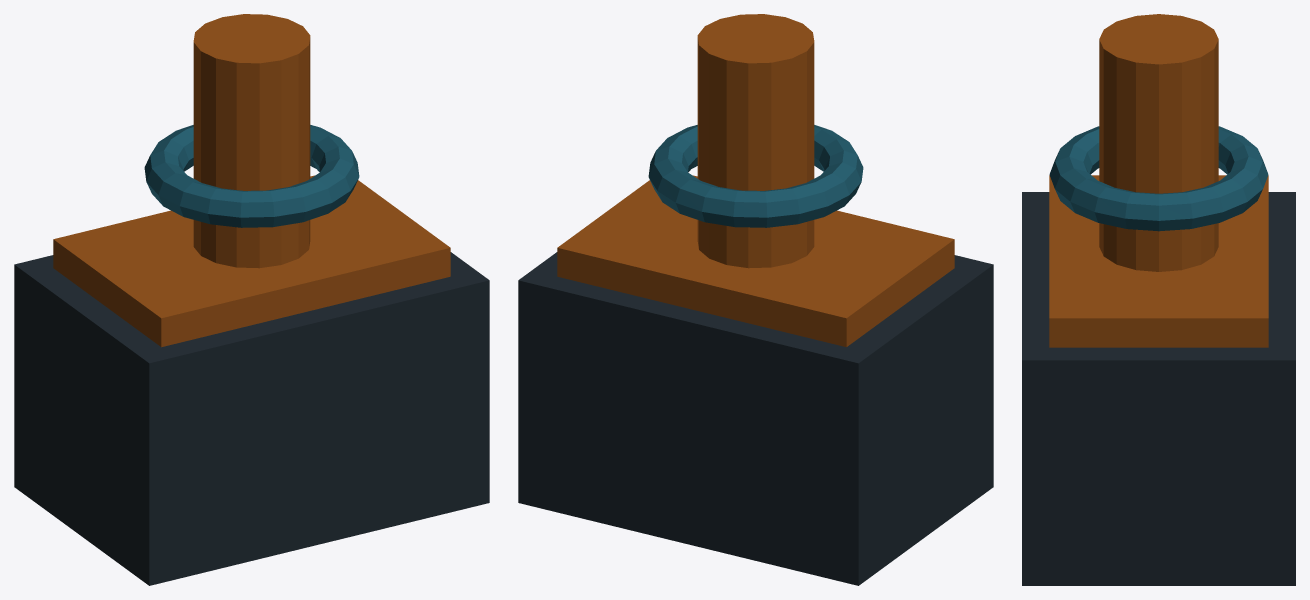
The model's file is workbench.obj.
3 renders of one model, left to right at view 1: azimuth 30°, elevation 25°; view 2: azimuth 150°, elevation 25°; view 3: azimuth 270°, elevation 25°, orthographic.
Visible parts, largest first — view 1: painted_metal, brass, glass; view 2: painted_metal, brass, glass; view 3: painted_metal, brass, glass.
Boxes of the visible parts, left/top/right/bottom form: painted_metal: left=14, top=252, right=489, bottom=585; brass: left=53, top=14, right=450, bottom=347; glass: left=144, top=125, right=359, bottom=227; painted_metal: left=518, top=252, right=993, bottom=585; brass: left=557, top=14, right=954, bottom=347; glass: left=648, top=125, right=863, bottom=227; painted_metal: left=1022, top=192, right=1295, bottom=585; brass: left=1049, top=14, right=1268, bottom=347; glass: left=1049, top=126, right=1268, bottom=231.
Bounding box in the file's own units: 0.8 × 1.02 × 0.55.
